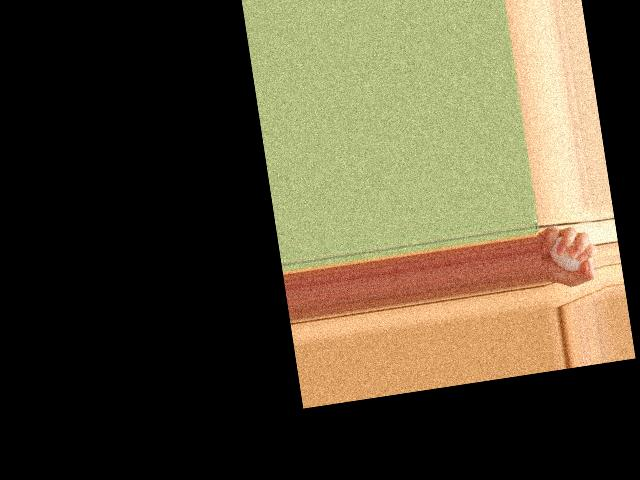egg: (547, 233, 585, 274)
